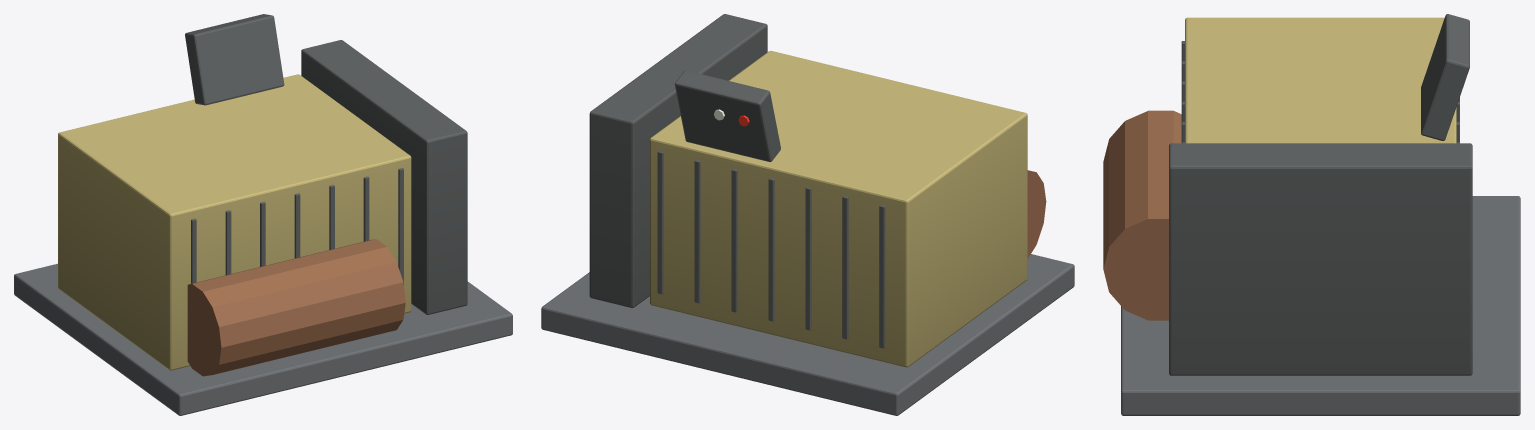
The model's file is generator.glb.
The picture shows the model from 3 angles, left to right: view 1: azimuth 30°, elevation 25°; view 2: azimuth 150°, elevation 25°; view 3: azimuth 270°, elevation 25°; orthographic projection. The views are drawn at different scales.
Parts seen in each view (by area): view 1: gen_body, gen_fuel_tank, gen_base, gen_side_panel, gen_control_box, gen_vent_slat; view 2: gen_body, gen_base, gen_side_panel, gen_vent_slat, gen_control_box, gen_fuel_tank; view 3: gen_side_panel, gen_body, gen_base, gen_fuel_tank, gen_control_box, gen_vent_slat.
Part boxes in pixels (bbox=[...]): gen_body: bbox=[58, 74, 411, 370]; gen_fuel_tank: bbox=[187, 239, 405, 376]; gen_base: bbox=[14, 263, 512, 415]; gen_side_panel: bbox=[301, 40, 467, 314]; gen_control_box: bbox=[185, 14, 284, 105]; gen_vent_slat: bbox=[191, 168, 403, 285]; gen_body: bbox=[650, 51, 1027, 367]; gen_base: bbox=[541, 254, 1074, 415]; gen_side_panel: bbox=[589, 14, 767, 307]; gen_vent_slat: bbox=[657, 151, 885, 348]; gen_control_box: bbox=[674, 70, 780, 161]; gen_fuel_tank: bbox=[1027, 170, 1046, 258]; gen_side_panel: bbox=[1169, 143, 1472, 375]; gen_body: bbox=[1185, 17, 1456, 143]; gen_base: bbox=[1121, 196, 1520, 415]; gen_fuel_tank: bbox=[1103, 110, 1181, 320]; gen_control_box: bbox=[1421, 14, 1469, 140]; gen_vent_slat: bbox=[1181, 41, 1459, 143].
Bounding box in the file's own units: 2.9 × 2.04 × 2.61.
